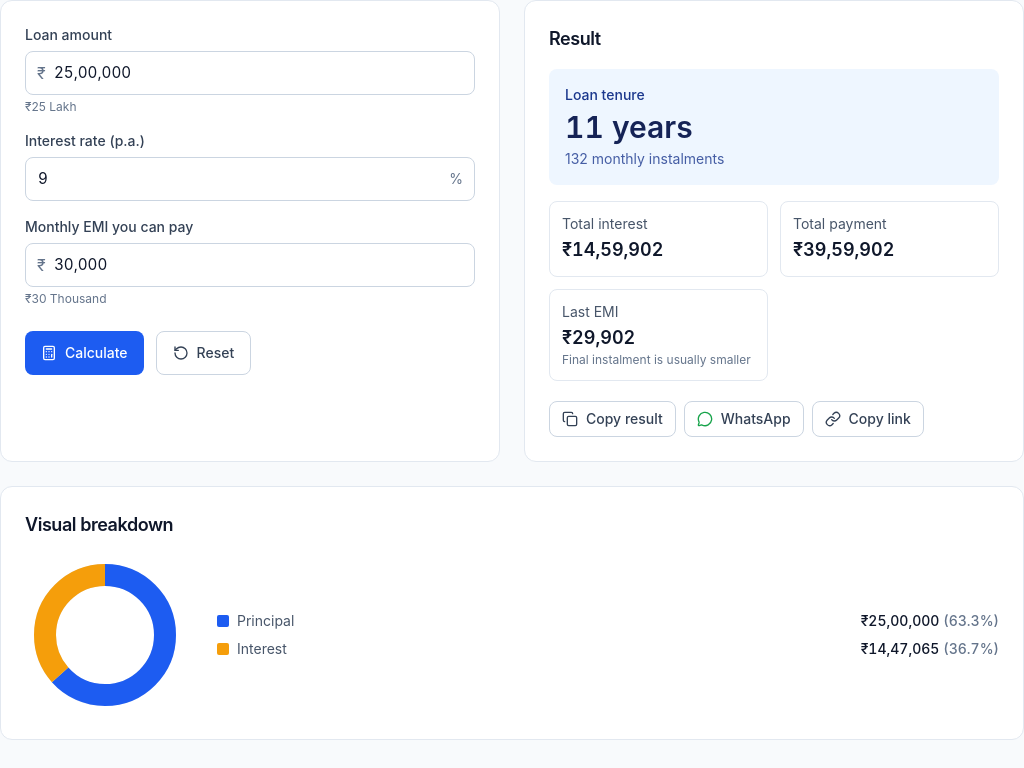
it: FormTool (EMI calculator) › shows domain errors from the engine
Replace the text in the field labelled "Monthly EMI you can pay" with "1000" at point(250, 265), box [25,243,475,287]
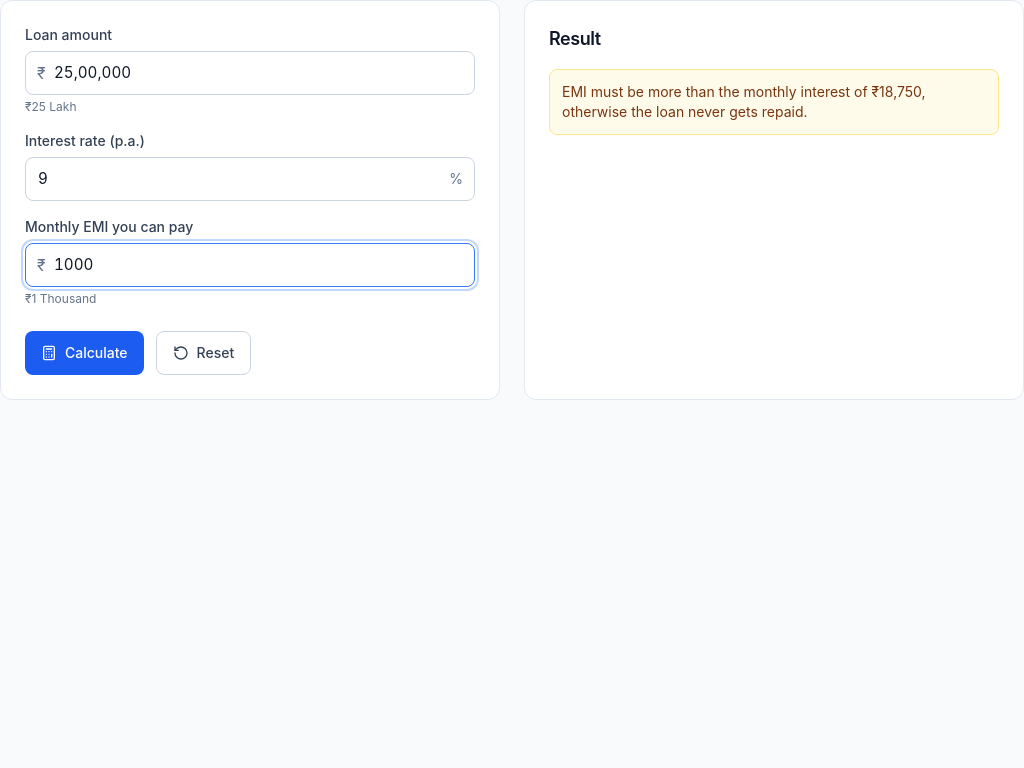
Now the message shows "never gets repaid", box [562,83,926,120]
